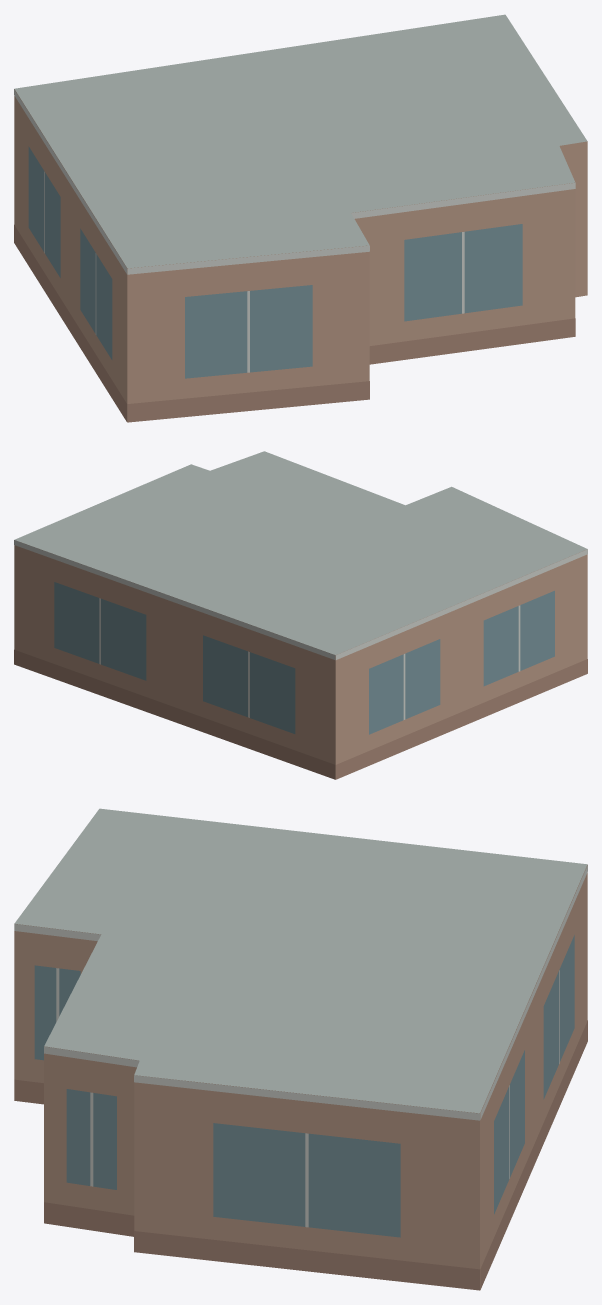
The model's file is survey-upis-32649213.glb.
3 renders of one model, top to bottom at view 1: azimuth 30°, elevation 25°; view 2: azimuth 150°, elevation 25°; view 3: azimuth 270°, elevation 25°, orthographic. The views are drawn at different scales.
Visible parts, largest first — view 1: survey-upis-32649213.tmp; view 2: survey-upis-32649213.tmp; view 3: survey-upis-32649213.tmp.
Boxes of the visible parts, x1,y1,x2,y2 form: survey-upis-32649213.tmp: [14, 14, 587, 422]; survey-upis-32649213.tmp: [14, 451, 587, 779]; survey-upis-32649213.tmp: [14, 808, 587, 1290].
Bounding box in the file's own units: 11.28 × 3.05 × 8.97.
